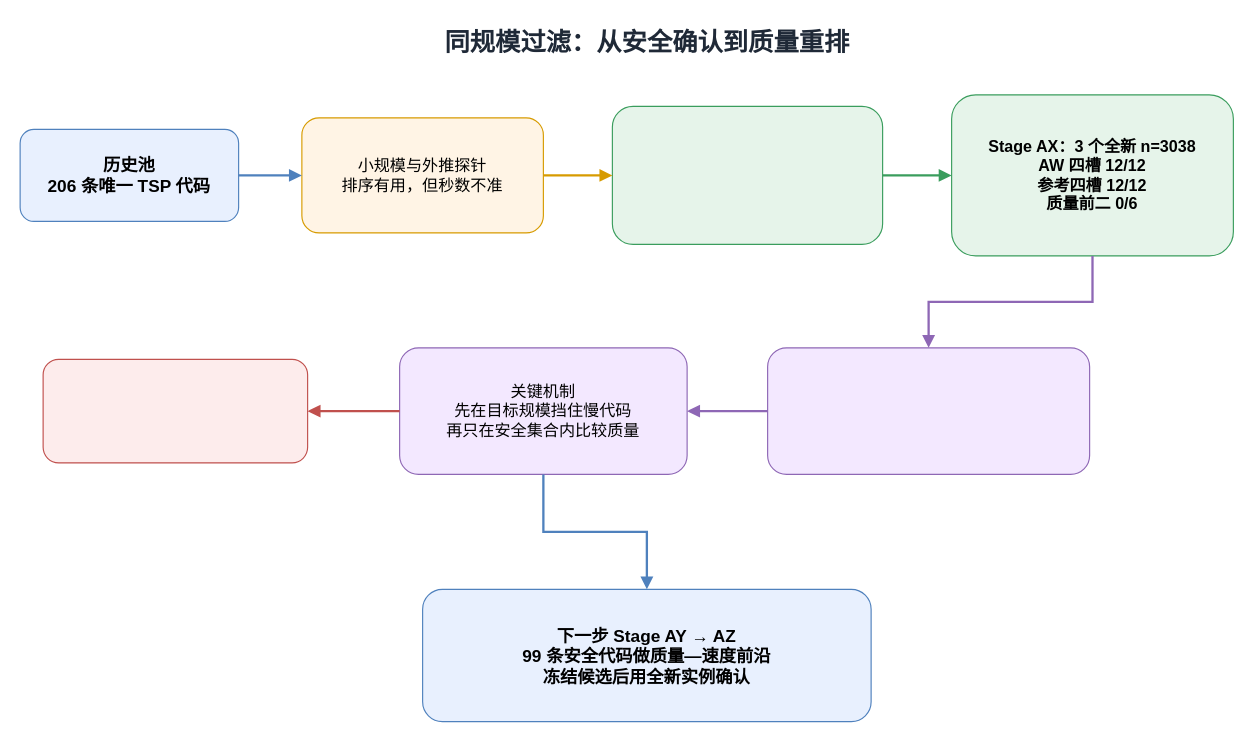
This 1254x742 diagram has some shape labels left out. The centre of each missing label's shape, as x and y in pixels:
Stage AW：同规模直接过滤 99 条判安全 真实标签 false-safe = 0: point (747, 174)
结论边界 已完成独立合成重复 尚不是 TSPLIB Full: point (175, 410)
路线成本（越低越好） AW 对参考：2 胜 / 1 平 / 0 负 中位差 −0.060%: point (928, 410)
